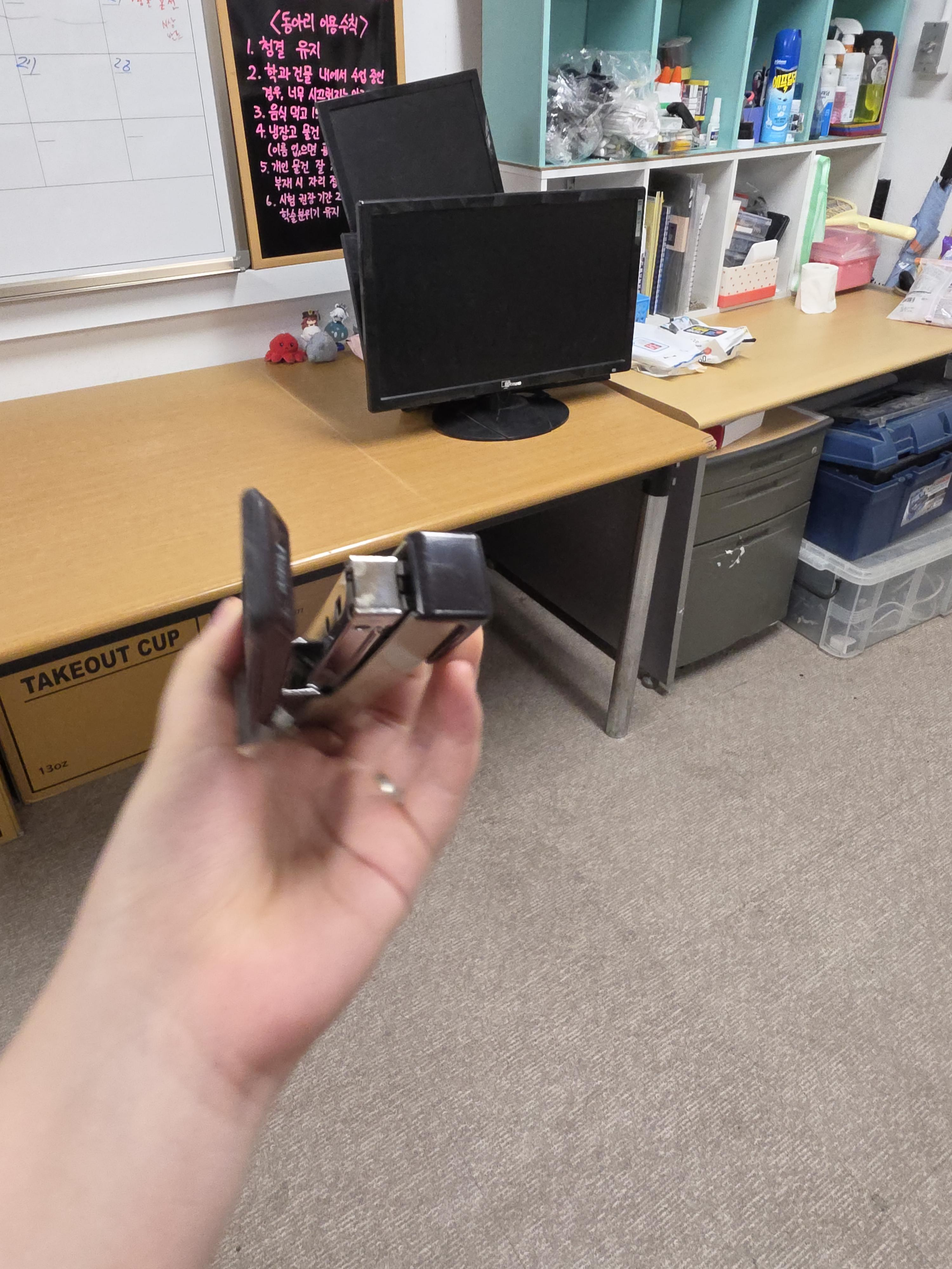stapler: (237, 486, 494, 750)
tissue: (799, 261, 840, 315)
